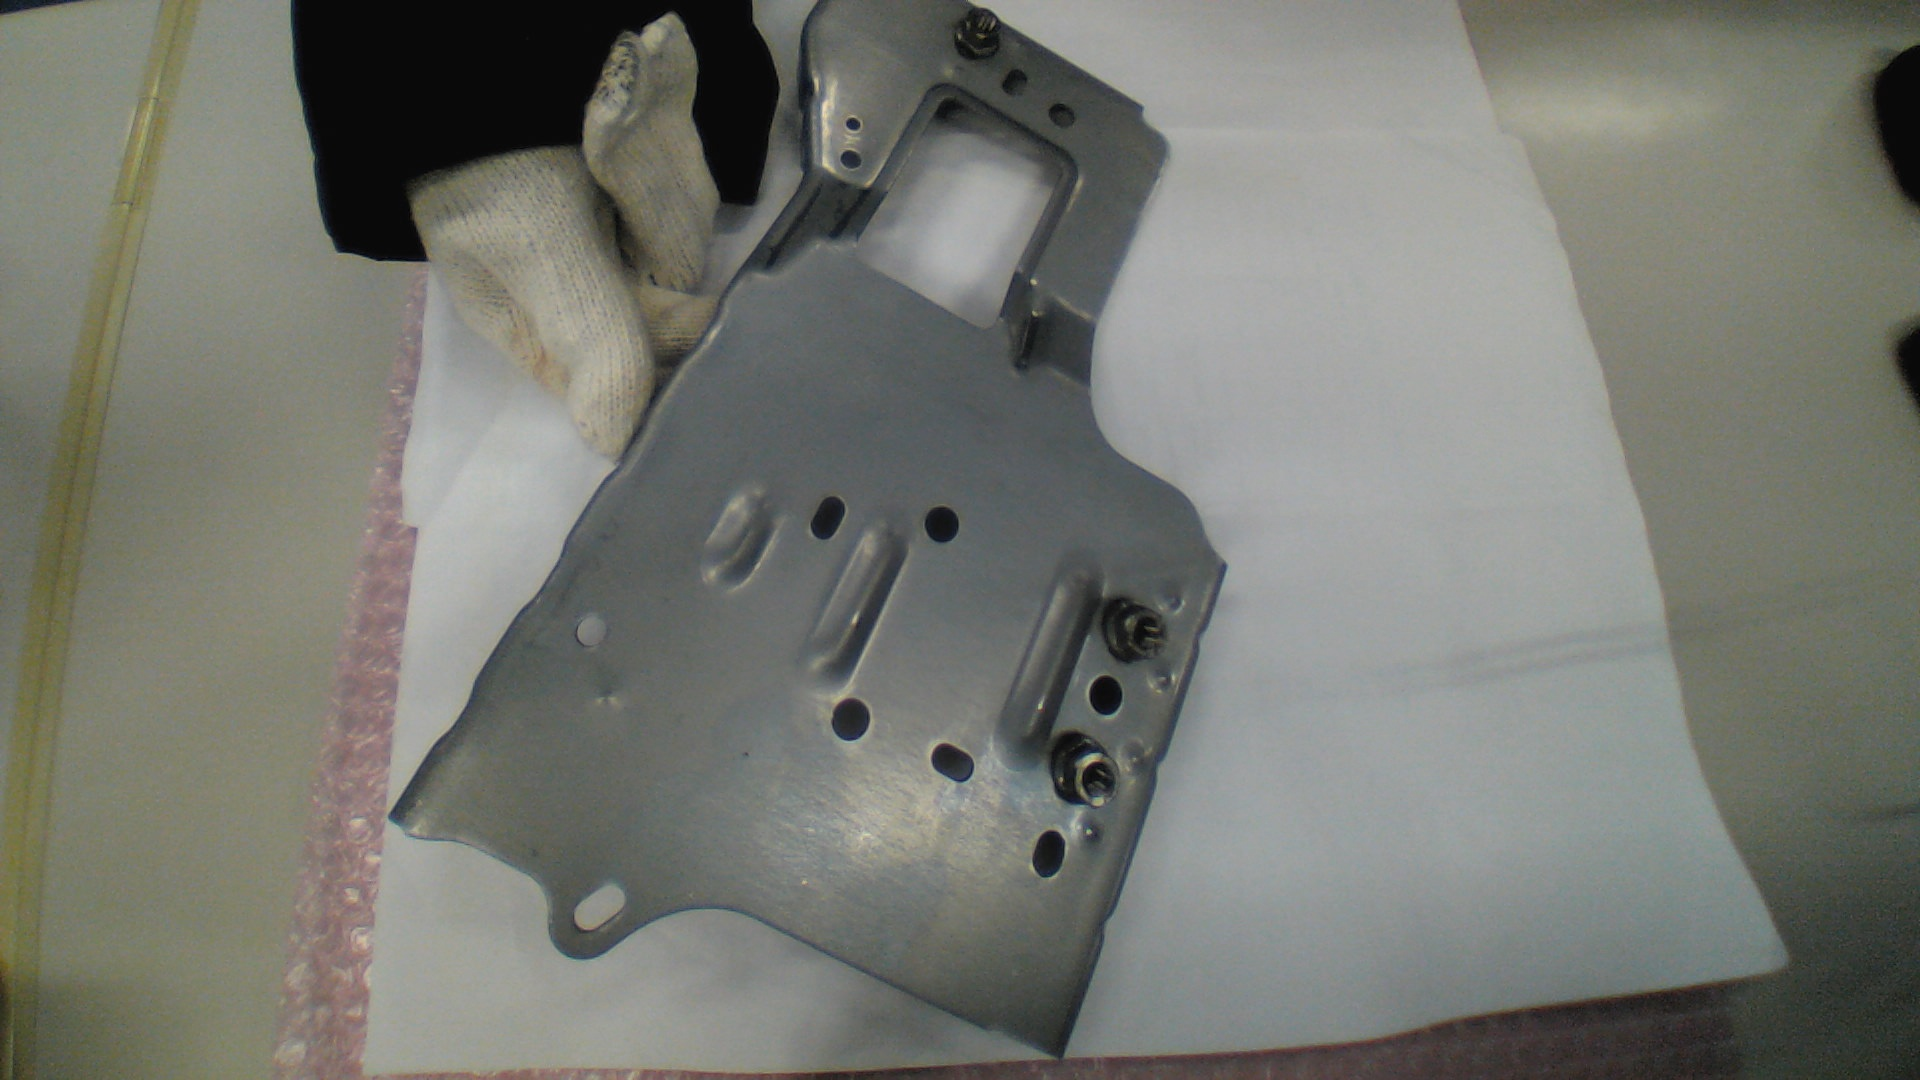dog: (1051, 731, 1121, 807), (1098, 596, 1168, 665), (953, 7, 1004, 62)
